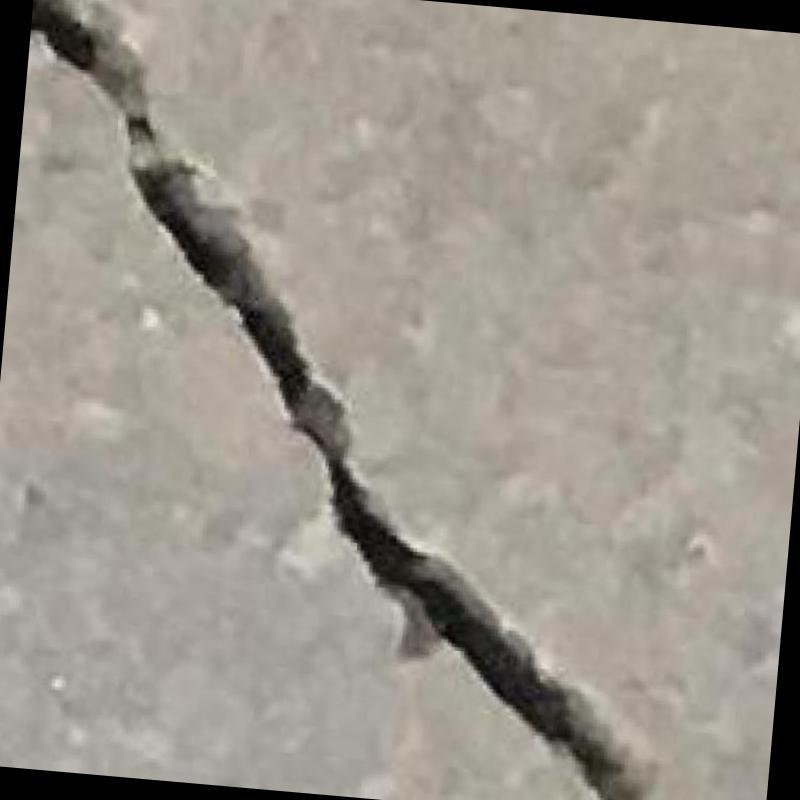crack: (31, 0, 645, 800)
